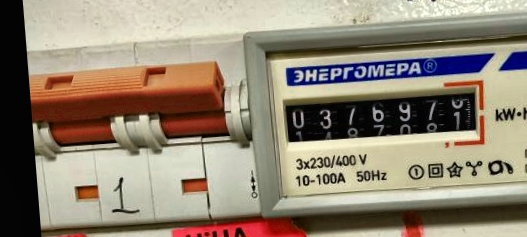0: (289, 106, 305, 129)
1: (450, 108, 461, 131)
3: (317, 107, 332, 129)
6: (368, 98, 385, 122)
7: (422, 95, 438, 119), (343, 102, 358, 126)
9: (396, 98, 411, 121)
screen: (271, 74, 490, 163)
